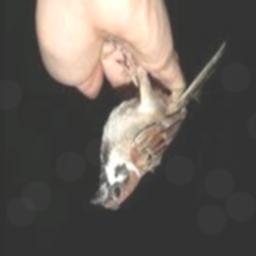Sparrow: (90, 45, 225, 213)
